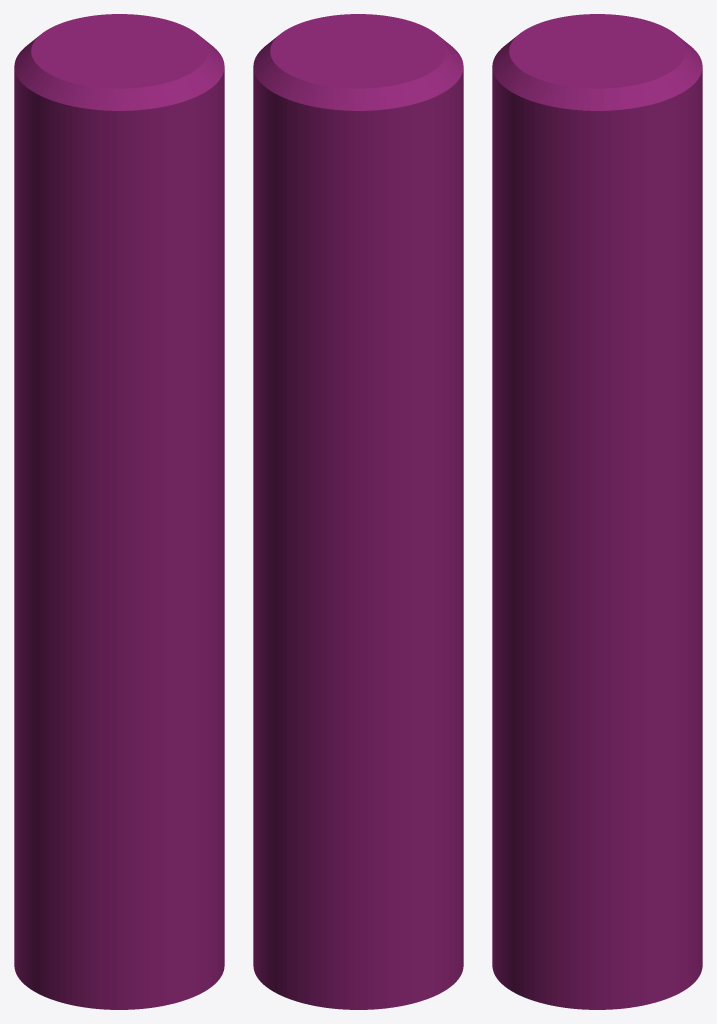
3 views of the same model, side by side, from view 1: azimuth 30°, elevation 25°; view 2: azimuth 150°, elevation 25°; view 3: azimuth 270°, elevation 25° (orthographic).
Parts seen in each view (by area): view 1: out; view 2: out; view 3: out.
Part boxes in pixels (left/top/right/bottom): out: left=14, top=14, right=224, bottom=1009; out: left=253, top=14, right=463, bottom=1009; out: left=492, top=14, right=702, bottom=1009.
Size of the model in its own units: 0.005 by 0.024 by 0.005.
